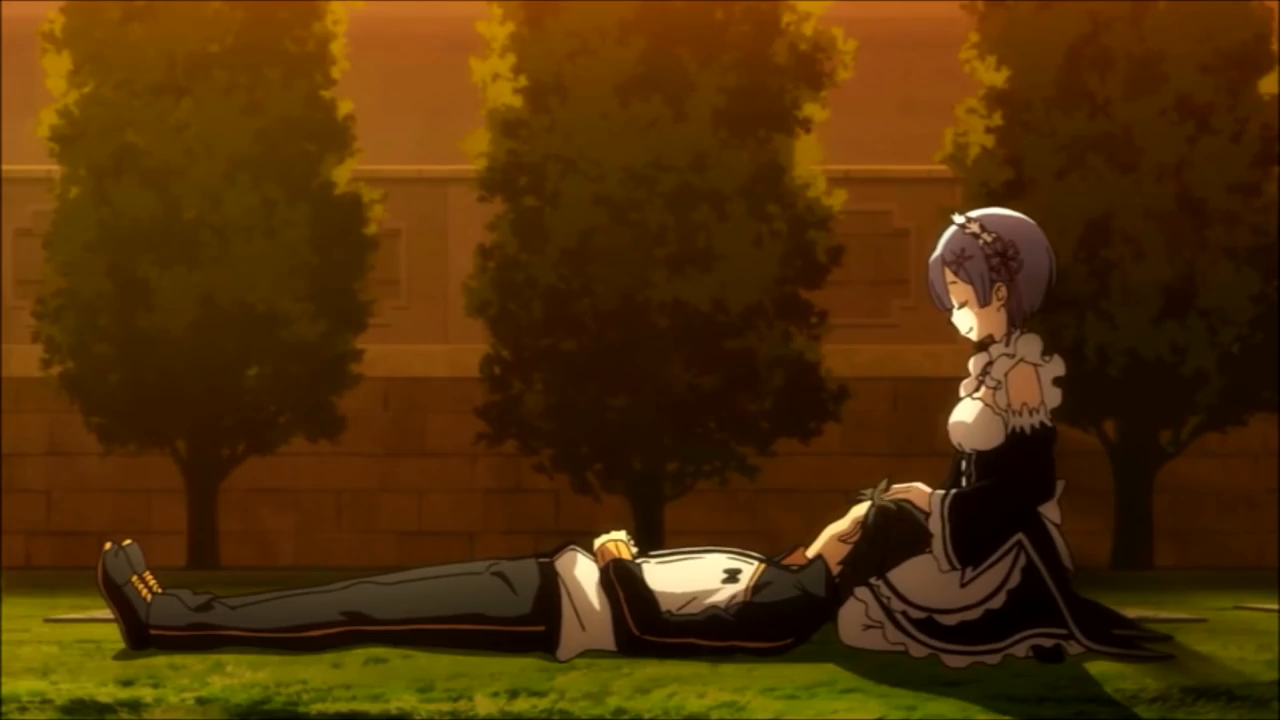REM: (921, 207, 1061, 345)
